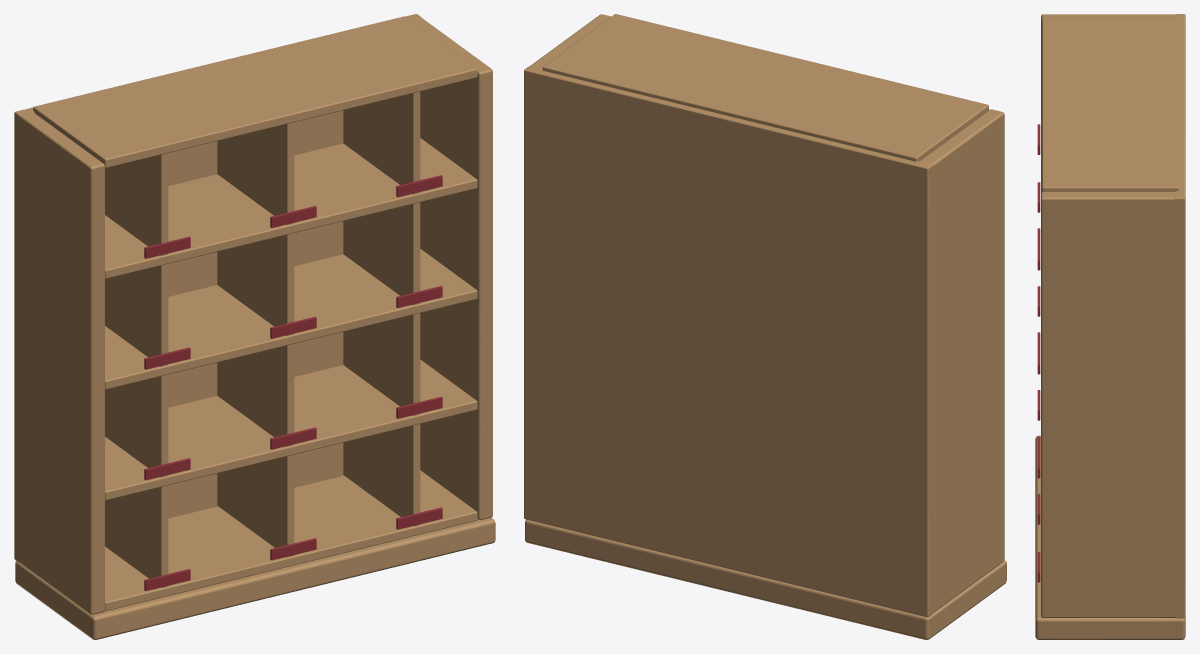
The model's file is pneumatic-tube-mail-exchange-pneumatic-tube-mail-excha-91fef98b__32322.glb.
3 renders of one model, left to right at view 1: azimuth 30°, elevation 25°; view 2: azimuth 150°, elevation 25°; view 3: azimuth 270°, elevation 25°, orthographic. The views are drawn at different scales.
Visible parts, largest first — view 1: pneumatic-tube-mail-exchange-destination-pigeonhole-cabinet_ (×2); view 2: pneumatic-tube-mail-exchange-destination-pigeonhole-cabinet_; view 3: pneumatic-tube-mail-exchange-destination-pigeonhole-cabinet_ (×2).
Part boxes in pixels (x1,y1,x2,y2): pneumatic-tube-mail-exchange-destination-pigeonhole-cabinet_ (×2): (14, 14, 495, 639); pneumatic-tube-mail-exchange-destination-pigeonhole-cabinet_: (524, 14, 1006, 639); pneumatic-tube-mail-exchange-destination-pigeonhole-cabinet_ (×2): (1035, 14, 1185, 639).
Bounding box in the file's own units: 1.6 × 1.8 × 0.55.
